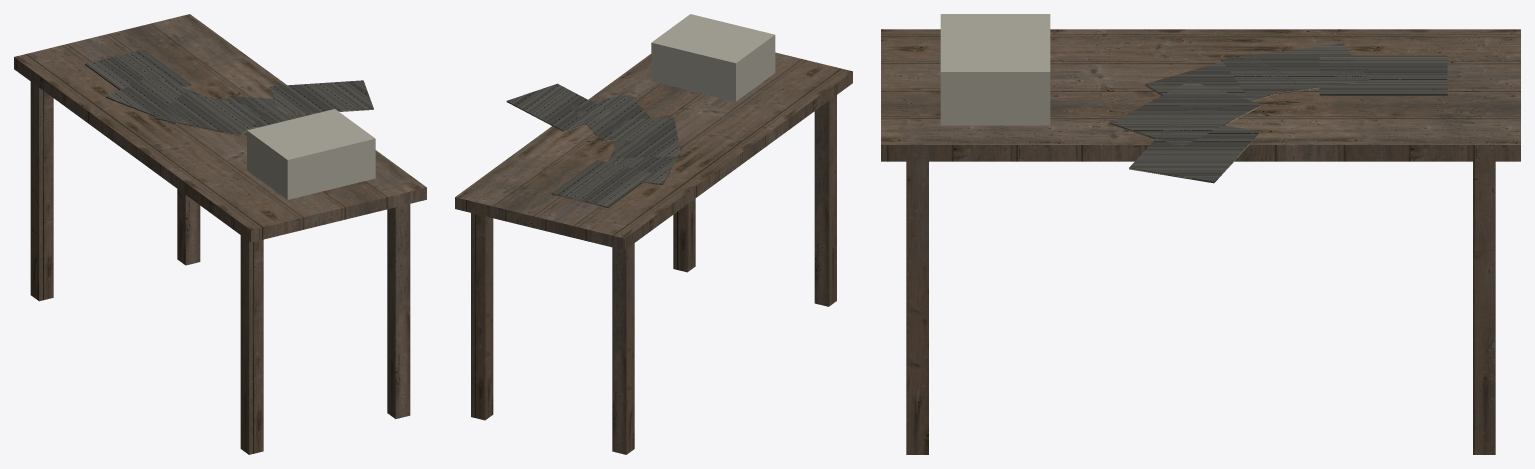
The model's file is flyer_table.glb.
3 views of the same model, side by side, from view 1: azimuth 30°, elevation 25°; view 2: azimuth 150°, elevation 25°; view 3: azimuth 270°, elevation 25° (orthographic). The views are drawn at different scales.
Visible parts, largest first — view 1: flyer_table; view 2: flyer_table; view 3: flyer_table.
Boxes of the visible parts, <box> form: flyer_table: <box>14,14,426,454</box>; flyer_table: <box>455,14,852,454</box>; flyer_table: <box>881,14,1520,454</box>.
Size of the model in its own units: 0.8048 by 0.89 by 1.4.
Materials: 3 (2 with a texture image).
